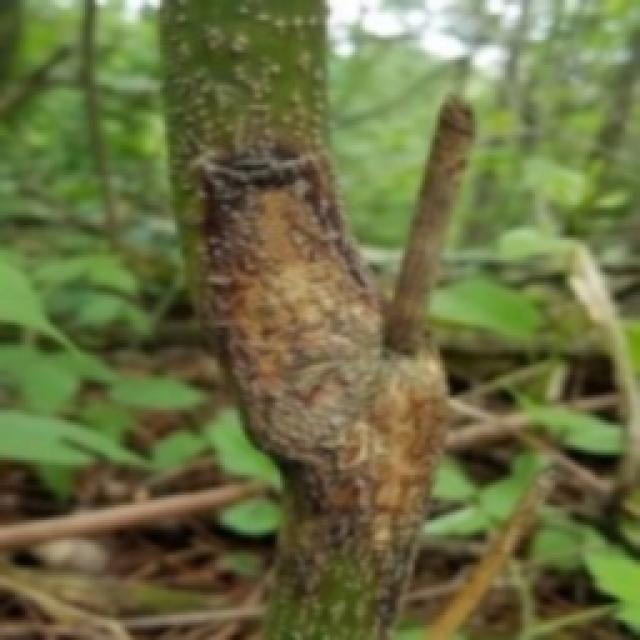Golden_canker: (149, 17, 537, 640)
